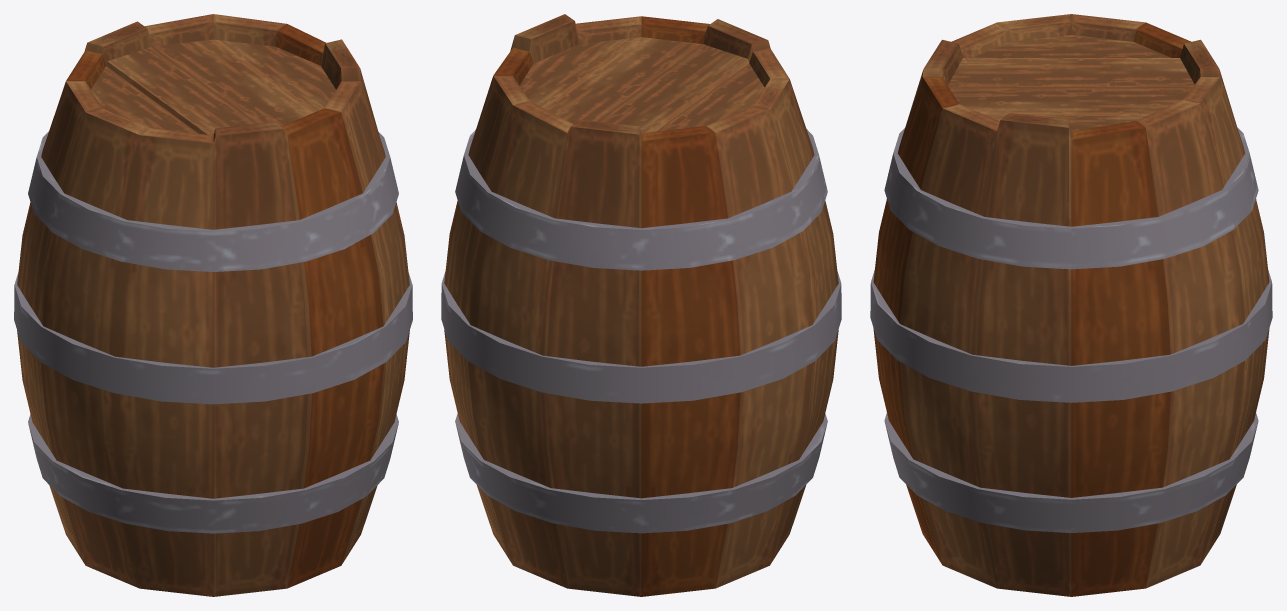
The model's file is barrel.glb.
The picture shows the model from 3 angles, left to right: view 1: azimuth 30°, elevation 25°; view 2: azimuth 150°, elevation 25°; view 3: azimuth 270°, elevation 25°; orthographic projection.
Visible parts, largest first — view 1: Barrel; view 2: Barrel; view 3: Barrel.
Part boxes in pixels (left/top/right/bottom): Barrel: left=14, top=14, right=412, bottom=596; Barrel: left=441, top=14, right=841, bottom=596; Barrel: left=870, top=14, right=1272, bottom=596.
Bounding box in the file's own units: 0.698 × 0.898 × 0.698.
Materials: 2 (2 with a texture image).
